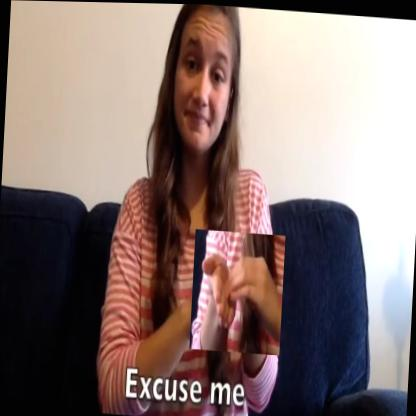ExcuseMe: (189, 228, 285, 353)
